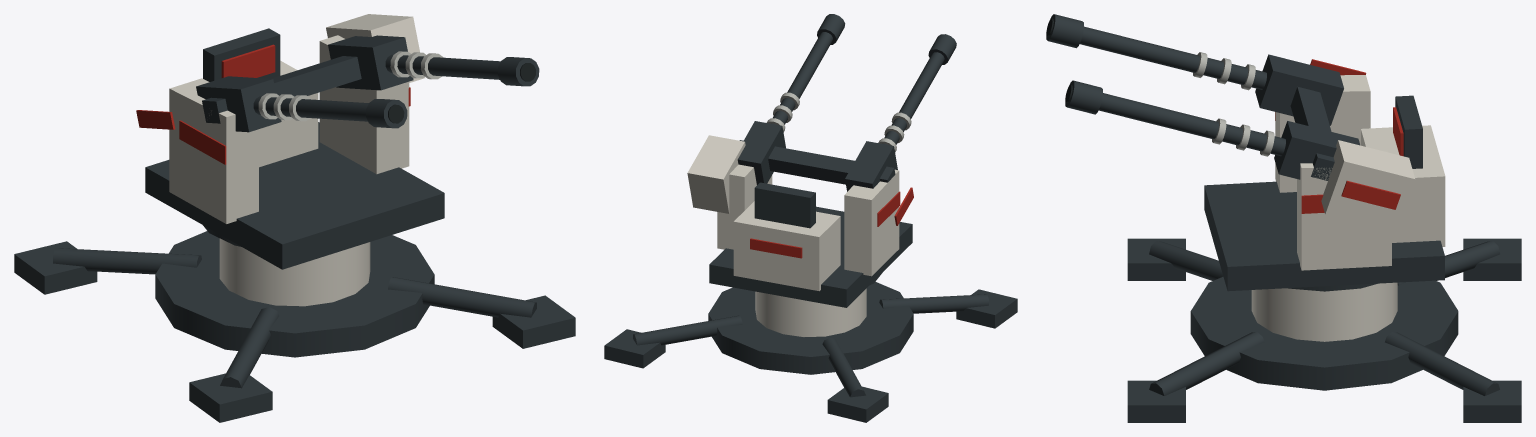
3 renders of one model, left to right at view 1: azimuth 30°, elevation 25°; view 2: azimuth 150°, elevation 25°; view 3: azimuth 270°, elevation 25°, orthographic. The views are drawn at different scales.
Visible parts, largest first — view 1: aa-gun-auto-fleet-machine, turret-fleet-machine, turret-fleet-armor, aa-gun-auto-fleet-armor, aa-barrel-right-fleet-machine, aa-barrel-left-fleet-machine, elevation-fleet-machine, breakaway-1-painted, radar-fleet-machine, radar-fleet-red, turret-fleet-red, aa-barrel-right-fleet-edge (+2 smaller); view 2: aa-gun-auto-fleet-machine, turret-fleet-armor, turret-fleet-machine, aa-gun-auto-fleet-armor, aa-barrel-right-fleet-machine, aa-barrel-left-fleet-machine, breakaway-1-painted, radar-fleet-machine, elevation-fleet-machine, turret-fleet-red, aa-barrel-left-fleet-edge, aa-barrel-right-fleet-edge; view 3: aa-gun-auto-fleet-machine, turret-fleet-machine, turret-fleet-armor, aa-barrel-left-fleet-machine, aa-gun-auto-fleet-armor, aa-barrel-right-fleet-machine, breakaway-1-painted, elevation-fleet-machine, radar-fleet-machine, elevation-fleet-red, aa-barrel-right-fleet-edge, aa-barrel-left-fleet-edge.
Boxes of the visible parts, x1=… form: aa-gun-auto-fleet-machine: x1=14, y1=225, x2=575, y2=422; turret-fleet-machine: x1=145, y1=122, x2=444, y2=269; turret-fleet-armor: x1=169, y1=35, x2=409, y2=223; aa-gun-auto-fleet-armor: x1=219, y1=238, x2=370, y2=306; aa-barrel-right-fleet-machine: x1=328, y1=35, x2=539, y2=90; aa-barrel-left-fleet-machine: x1=196, y1=76, x2=407, y2=132; elevation-fleet-machine: x1=202, y1=56, x2=361, y2=123; breakaway-1-painted: x1=326, y1=14, x2=424, y2=82; radar-fleet-machine: x1=203, y1=28, x2=280, y2=81; radar-fleet-red: x1=221, y1=44, x2=275, y2=77; turret-fleet-red: x1=179, y1=87, x2=410, y2=164; aa-barrel-right-fleet-edge: x1=390, y1=51, x2=443, y2=79; aa-gun-auto-fleet-machine: x1=604, y1=273, x2=1017, y2=422; turret-fleet-armor: x1=717, y1=164, x2=899, y2=291; turret-fleet-machine: x1=709, y1=206, x2=912, y2=307; aa-gun-auto-fleet-armor: x1=755, y1=288, x2=866, y2=336; aa-barrel-right-fleet-machine: x1=737, y1=14, x2=845, y2=184; aa-barrel-left-fleet-machine: x1=845, y1=34, x2=956, y2=191; breakaway-1-painted: x1=687, y1=135, x2=745, y2=213; radar-fleet-machine: x1=754, y1=182, x2=815, y2=228; elevation-fleet-machine: x1=739, y1=140, x2=895, y2=184; turret-fleet-red: x1=750, y1=191, x2=900, y2=258; aa-barrel-left-fleet-edge: x1=878, y1=112, x2=911, y2=152; aa-barrel-right-fleet-edge: x1=766, y1=92, x2=799, y2=132; aa-gun-auto-fleet-machine: x1=1127, y1=238, x2=1521, y2=422; turret-fleet-machine: x1=1204, y1=181, x2=1444, y2=291; turret-fleet-armor: x1=1275, y1=75, x2=1445, y2=270; aa-barrel-left-fleet-machine: x1=1046, y1=14, x2=1343, y2=125; aa-gun-auto-fleet-armor: x1=1251, y1=282, x2=1397, y2=341; aa-barrel-right-fleet-machine: x1=1065, y1=80, x2=1359, y2=179; breakaway-1-painted: x1=1321, y1=140, x2=1415, y2=232; elevation-fleet-machine: x1=1290, y1=86, x2=1334, y2=180; radar-fleet-machine: x1=1395, y1=95, x2=1422, y2=168; elevation-fleet-red: x1=1310, y1=59, x2=1400, y2=209; aa-barrel-right-fleet-edge: x1=1212, y1=118, x2=1274, y2=156; aa-barrel-left-fleet-edge: x1=1193, y1=52, x2=1255, y2=90.
Size of the model in its own units: 16.77 by 14.29 by 20.23.
